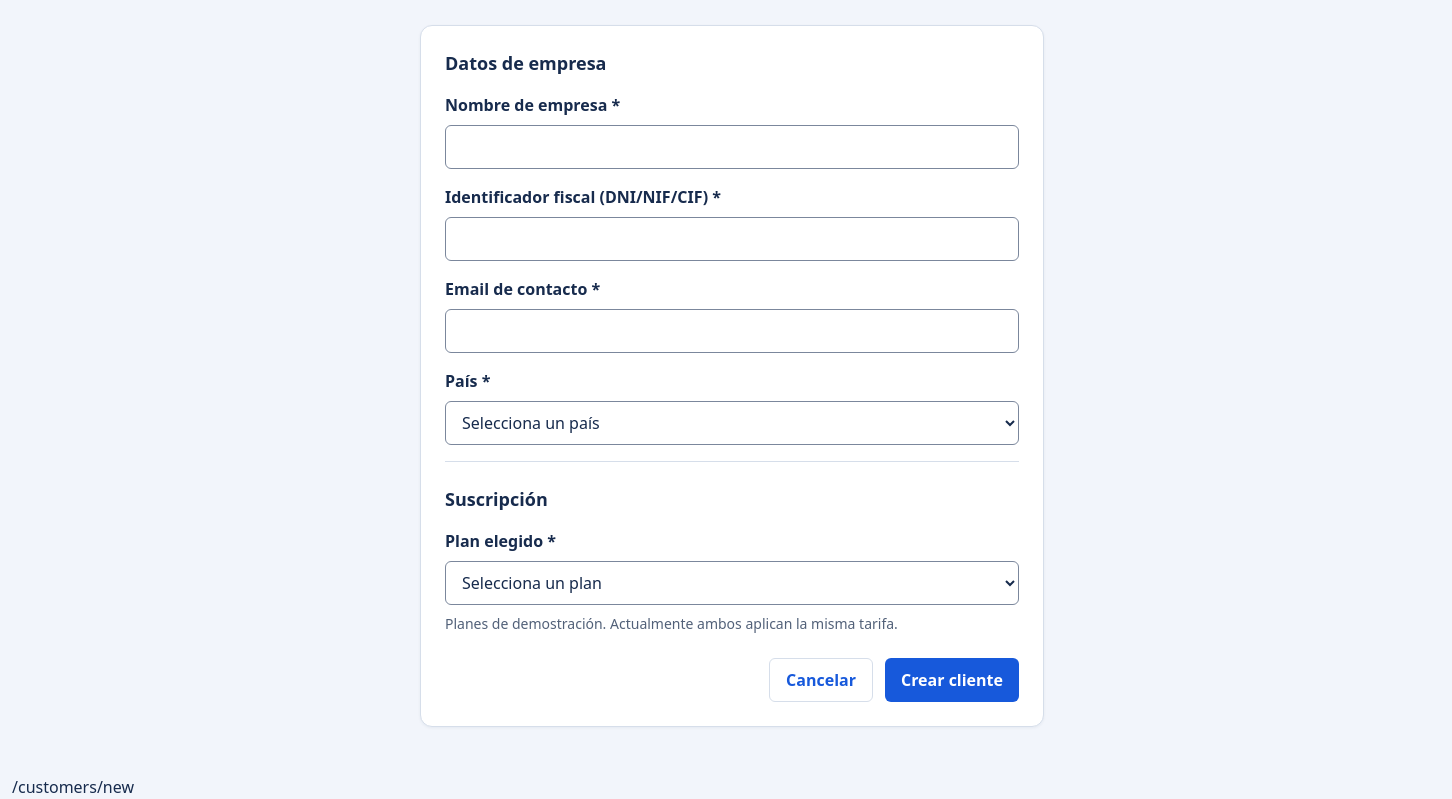
returns from creation to the original search/page on cancel
(page scrolled)
Click the button "Cancelar" at (821,680), box [769,658,873,702]
(page scrolled)
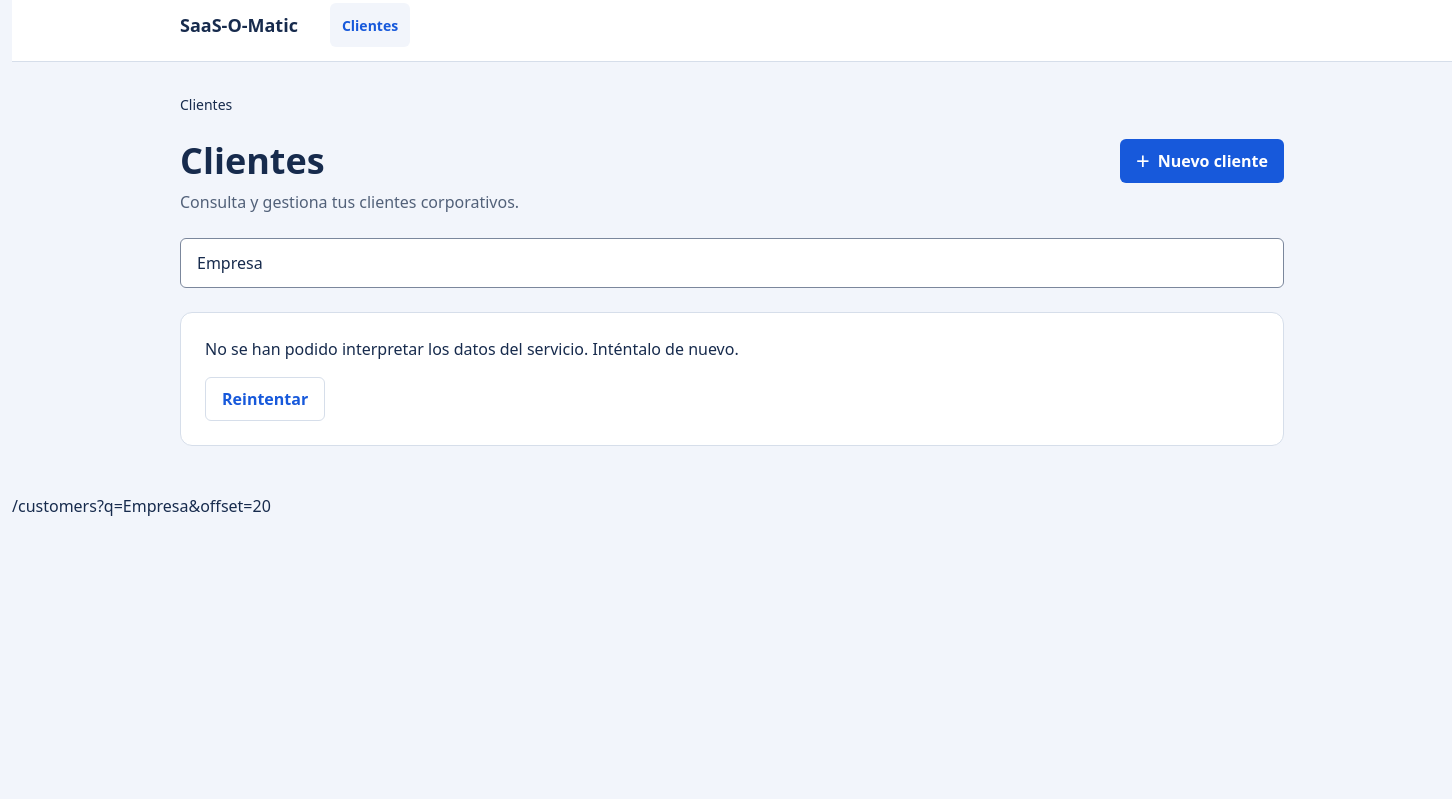
Now the text named "Ubicación actual" reads "/customers?q=Empresa&offset=20", box [12,495,271,517]
